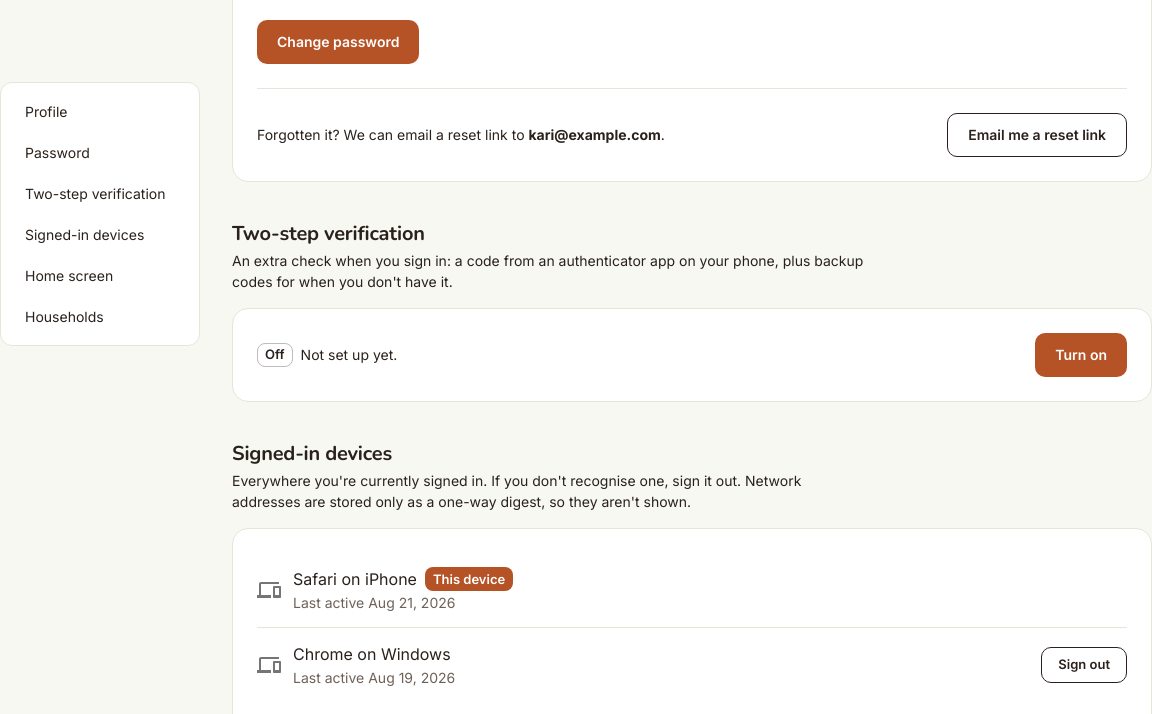
Test: AccountSettingsPage › walks through two-step enrolment and requires saving the backup codes
(page scrolled)
Click the button "Turn on" at [1081, 355], box 1035,333 -> 1127,377
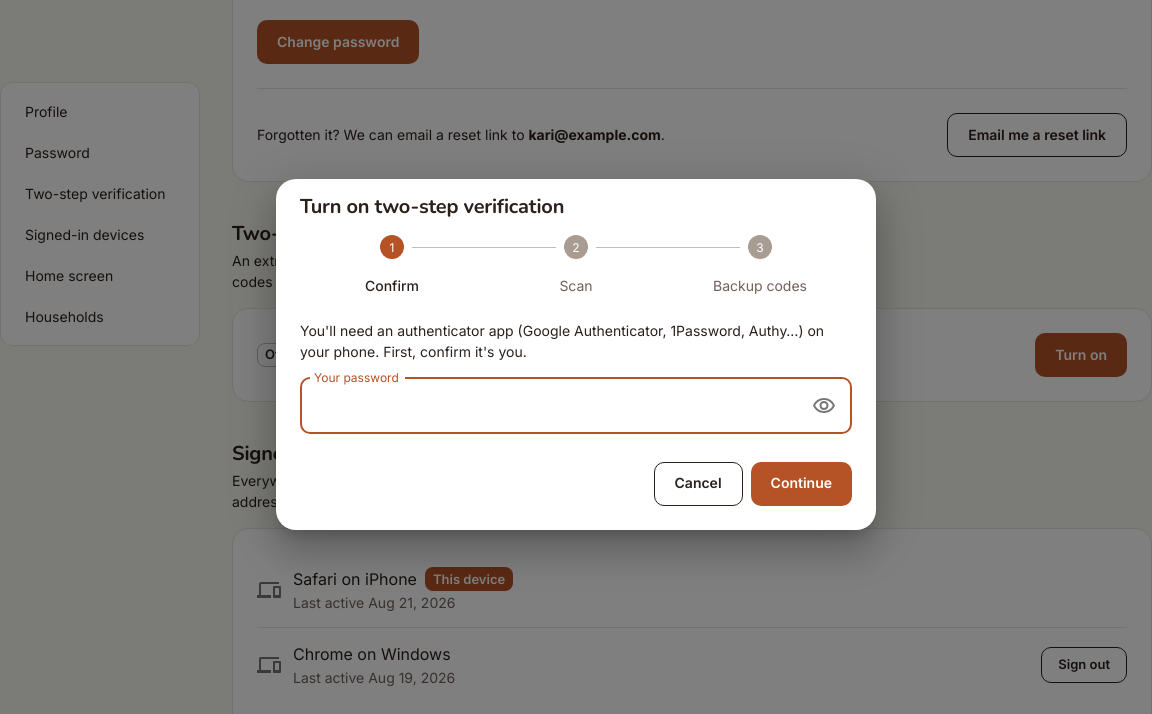
Type "correct-horse-battery" into the password field labelled "Your password" at [550, 406], box 300,378 -> 799,434
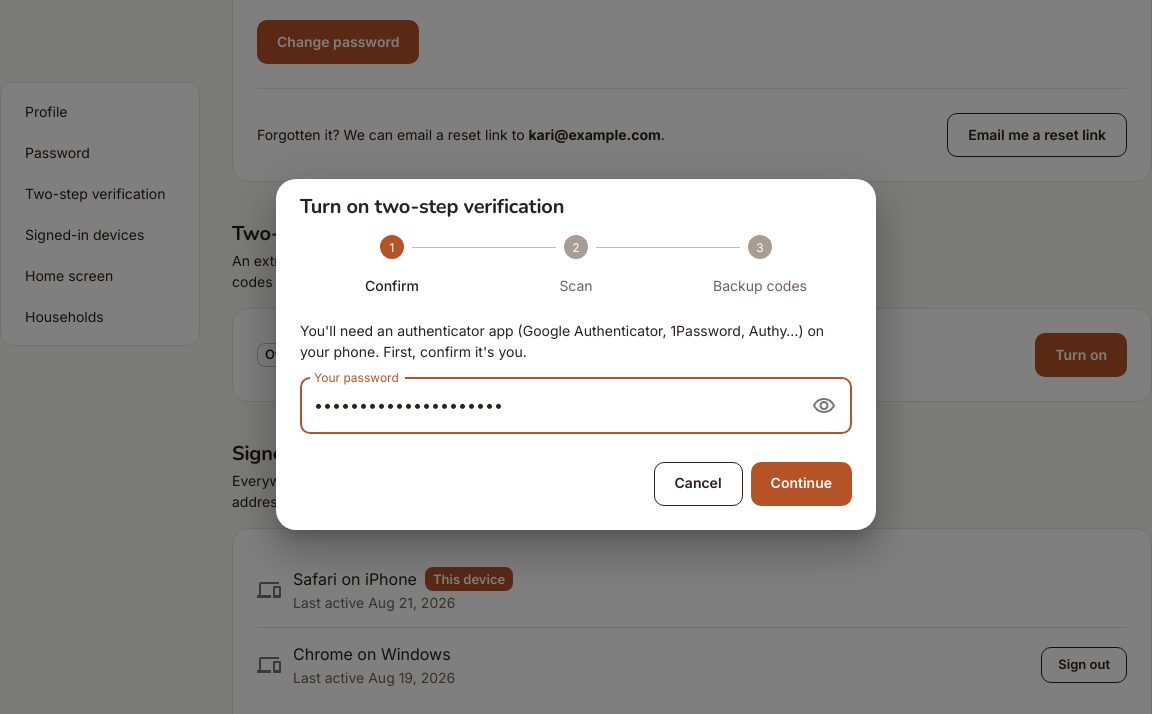
Click the button "Continue" at [801, 484], box 751,462 -> 852,506
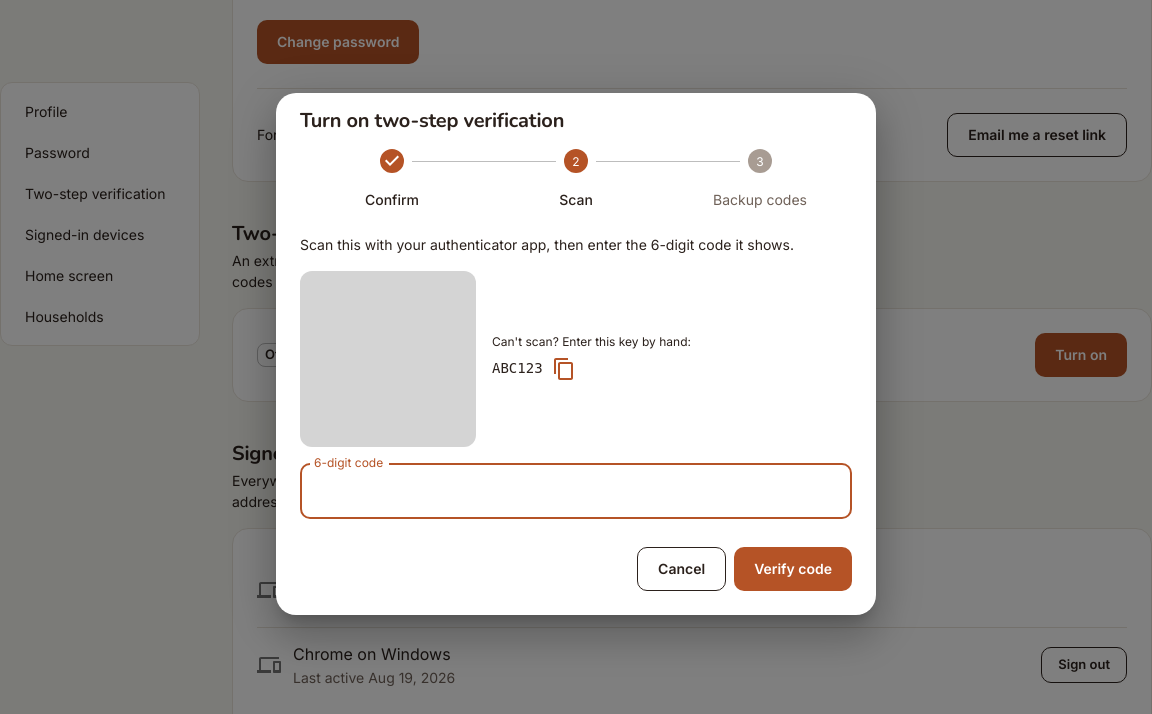
expect the text "ABC123" is shown: met, box 492,358 -> 543,380
Type "123456" into the field labelled "6-digit code" at [576, 491], box 300,463 -> 852,519
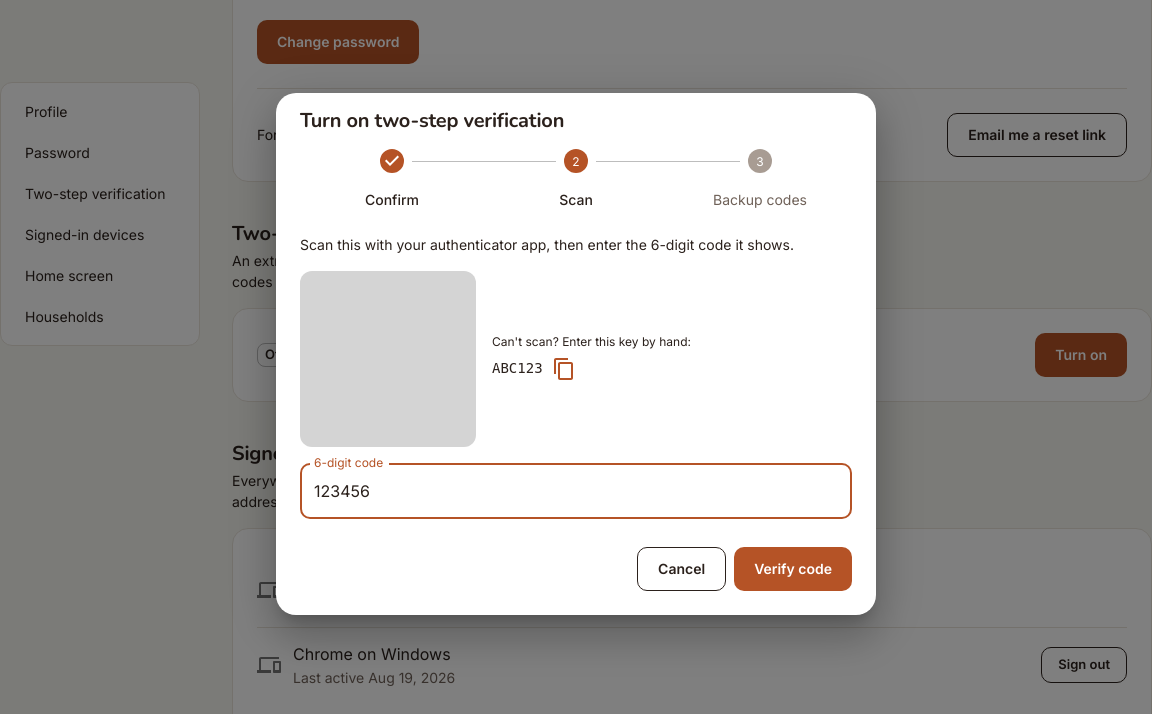
Click the button "Verify code" at [793, 569], box 734,547 -> 852,591
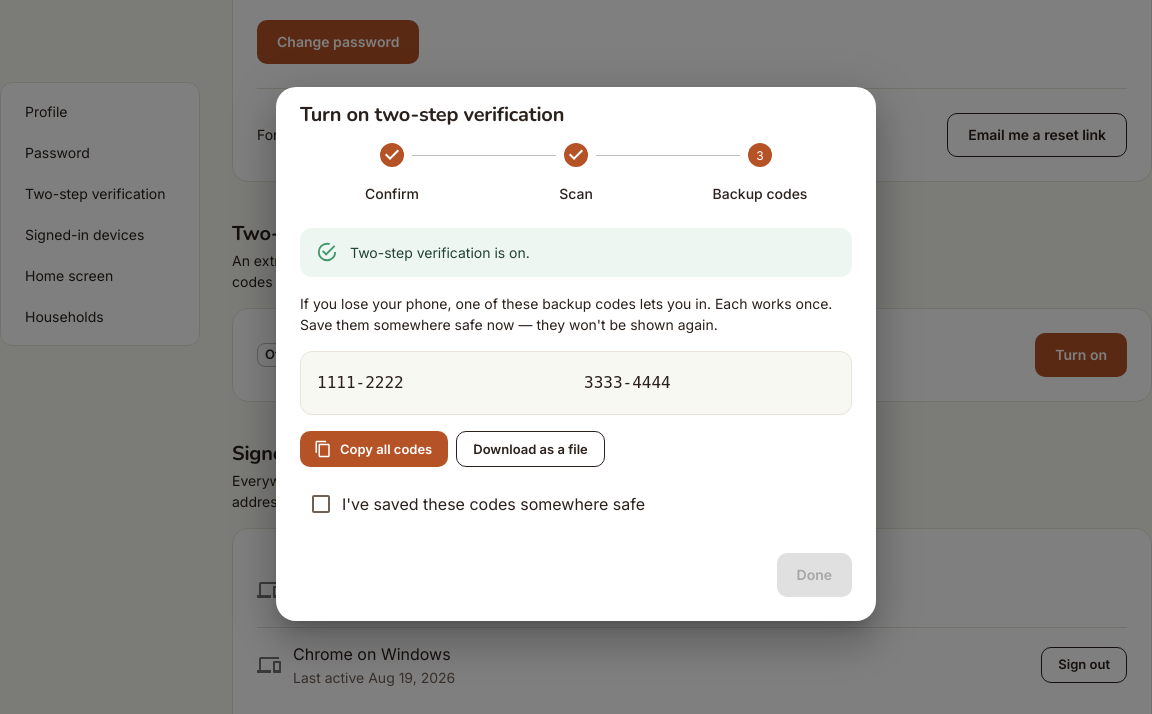
expect the list named "Backup codes" shows "1111-2222": met, box 317,373 -> 404,392
expect the button "Copy all codes" is shown: met, box 300,431 -> 448,467
expect the button "Done" is disabled: met, box 776,553 -> 852,597
Click the checkbox labelled "I've saved these codes somewhere safe" at [477, 504], box 309,492 -> 645,516
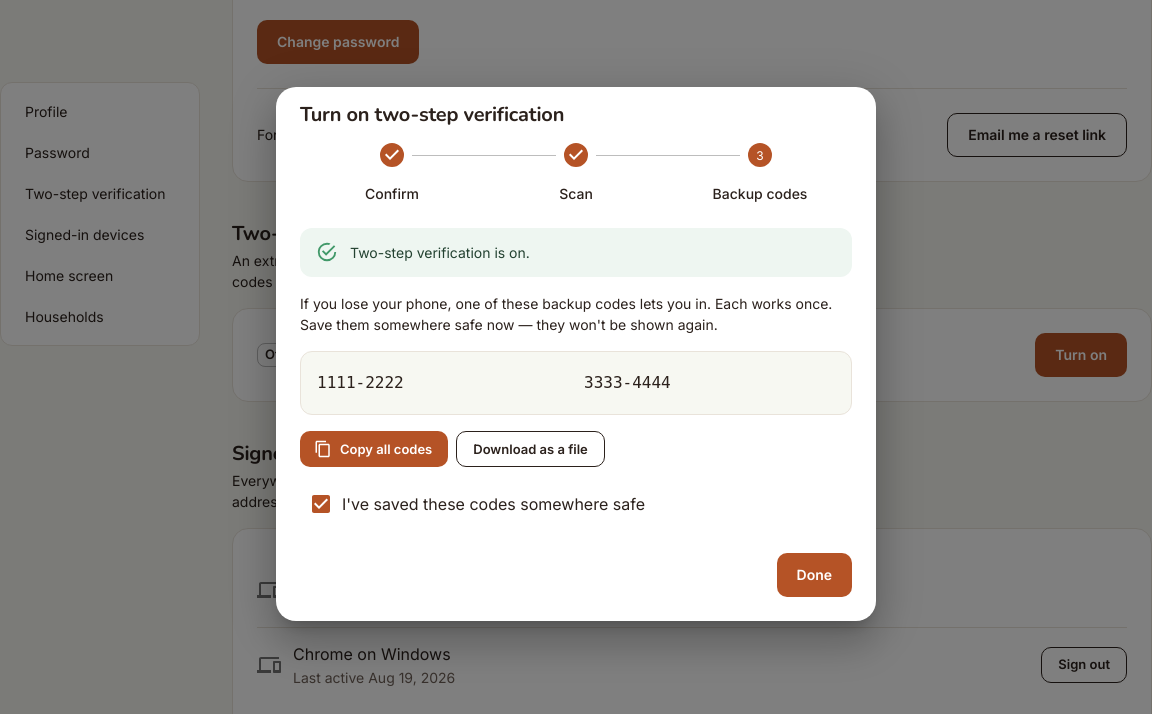
expect the button "Done" is enabled: met, box 776,553 -> 852,597
